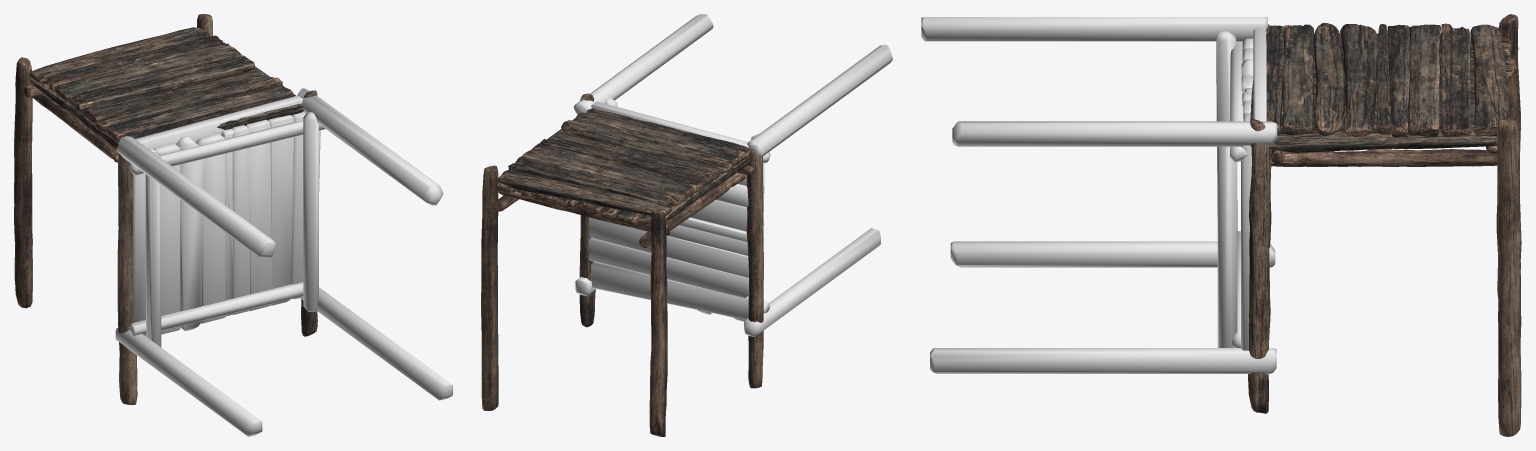
File: SM_Deck_A.fbx
The picture shows the model from 3 angles, left to right: view 1: azimuth 30°, elevation 25°; view 2: azimuth 150°, elevation 25°; view 3: azimuth 270°, elevation 25°; orthographic projection. The views are drawn at different scales.
Visible parts, largest first — view 1: SM_Deck_A_ConvexHulls, SM_Deck_A; view 2: SM_Deck_A, SM_Deck_A_ConvexHulls; view 3: SM_Deck_A, SM_Deck_A_ConvexHulls.
Part boxes in pixels (x1,y1,x2,y2): SM_Deck_A_ConvexHulls: [115, 88, 452, 436]; SM_Deck_A: [14, 14, 317, 404]; SM_Deck_A: [481, 93, 763, 436]; SM_Deck_A_ConvexHulls: [573, 14, 892, 336]; SM_Deck_A: [1248, 14, 1521, 436]; SM_Deck_A_ConvexHulls: [921, 17, 1277, 373].
Bounding box in the file's own units: 3.31 × 4.28 × 7.22.
